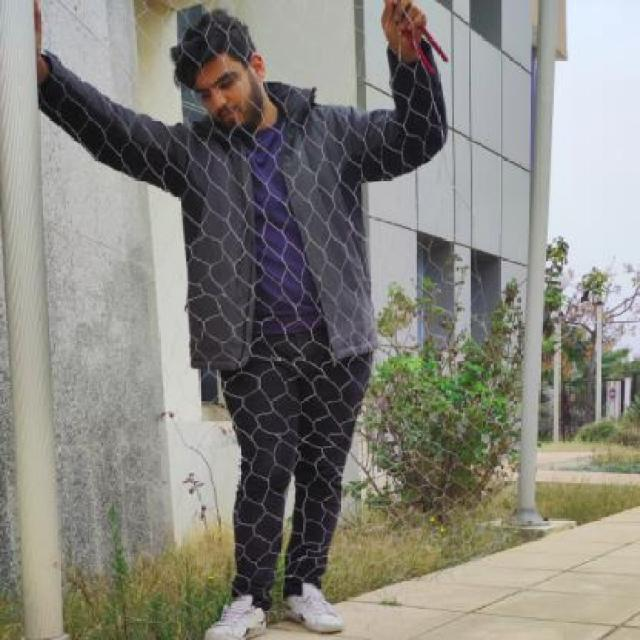fence line: (447, 12, 630, 583)
